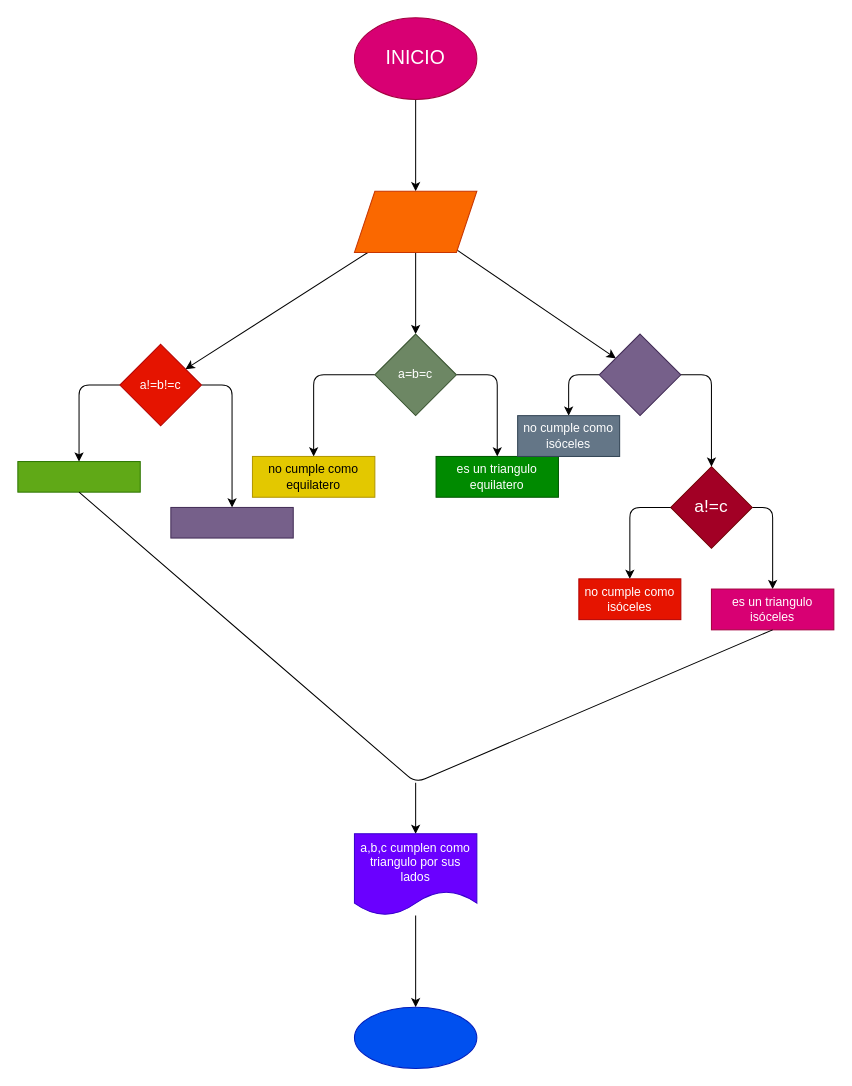
Some shapes in this 852 by 1086 pixel diagram are drawn without their labels. Here are the shapes that lost their labels. From the top down, the centre of each, then its label:
pixel 415 221: a,b,c
pixel 639 374: a!=b
pixel 78 476: no cumple como escaleno
pixel 231 522: es un triangulo escaleno
pixel 415 1037: FIN
